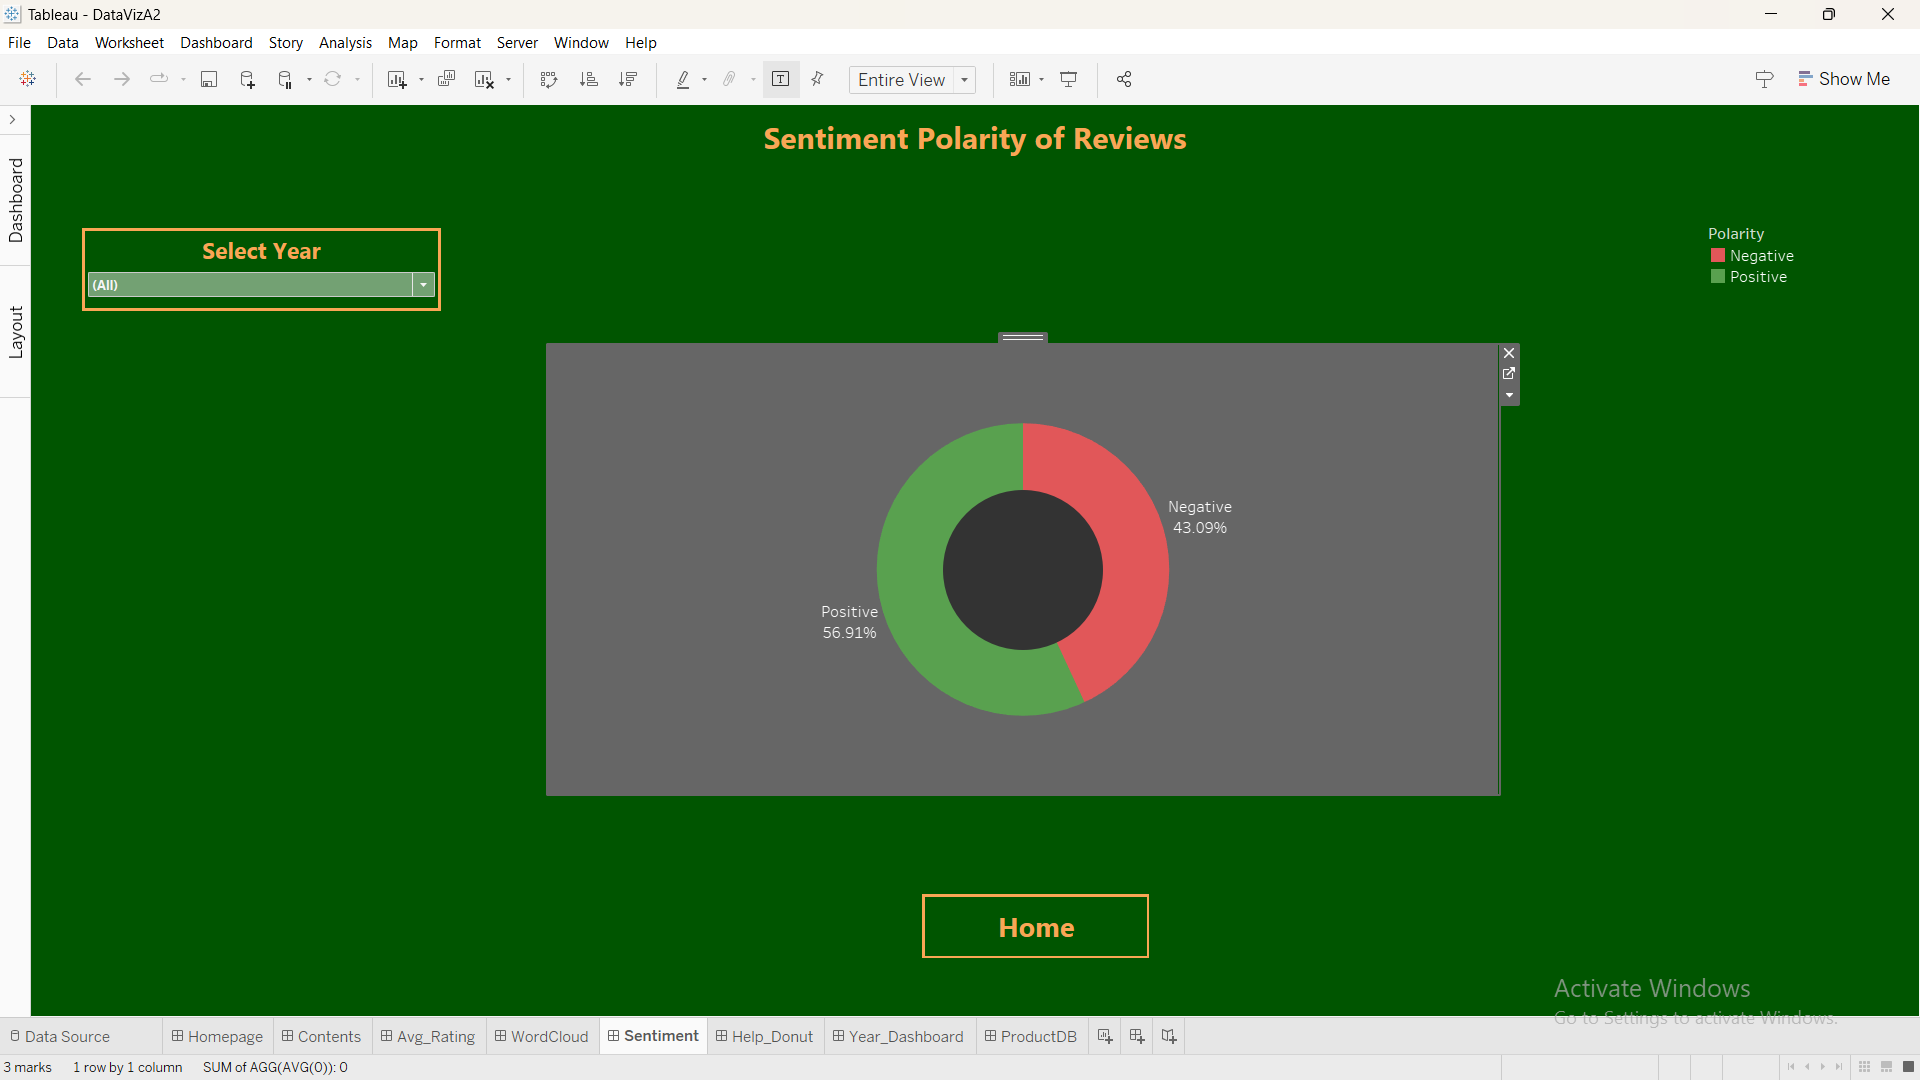

The page's visual inventory and layout, read from the dashboard file:
{"tool":"tableau","page":{"name":"Sentiment","canvas":[1000,1000],"units":"permille","ordinal":5},"visuals":[{"type":"title","box":[4.8,8.8,990.3,52.7]},{"type":"legend","title":"Sentiment_Donut","param":"[federated.1rml1ya152oxk311he94c0te2ujb].[none:Calculation_3184889362975440898:n","box":[888.4,129.4,94.8,73.3]},{"type":"filter","title":"Sentiment_Donut","param":"[federated.1rml1ya152oxk311he94c0te2ujb].[yr:reviewTime:ok]","box":[27.2,135.2,190.1,91.6]},{"type":"worksheet","title":"Sentiment_Donut","mark":"Automatic","rows":["Calculation_3184889362993233940","Calculation_3184889362993258518"],"box":[274,263.5,503.3,492.6]},{"type":"dashboard-object","box":[471.7,865.6,120.6,70.8]}]}

Visuals, with their boxes on the dashboard's canvas, which has no fixed pixel size, in thousandths of its width and height (x1, y1, x2, y2). These are canvas units, not pixel positions in the 1920x1080 screenshot, which may show the page scaled, cropped or inside an application window:
title: box=[5, 9, 995, 62]
"Sentiment_Donut" legend: box=[888, 129, 983, 203]
"Sentiment_Donut" filter: box=[27, 135, 217, 227]
"Sentiment_Donut" worksheet: box=[274, 264, 777, 756]
dashboard-object: box=[472, 866, 592, 936]
